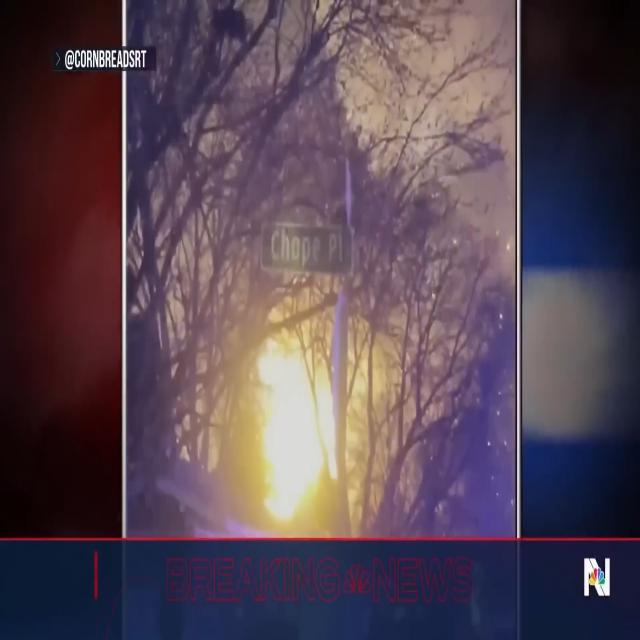fire: (237, 307, 374, 530)
